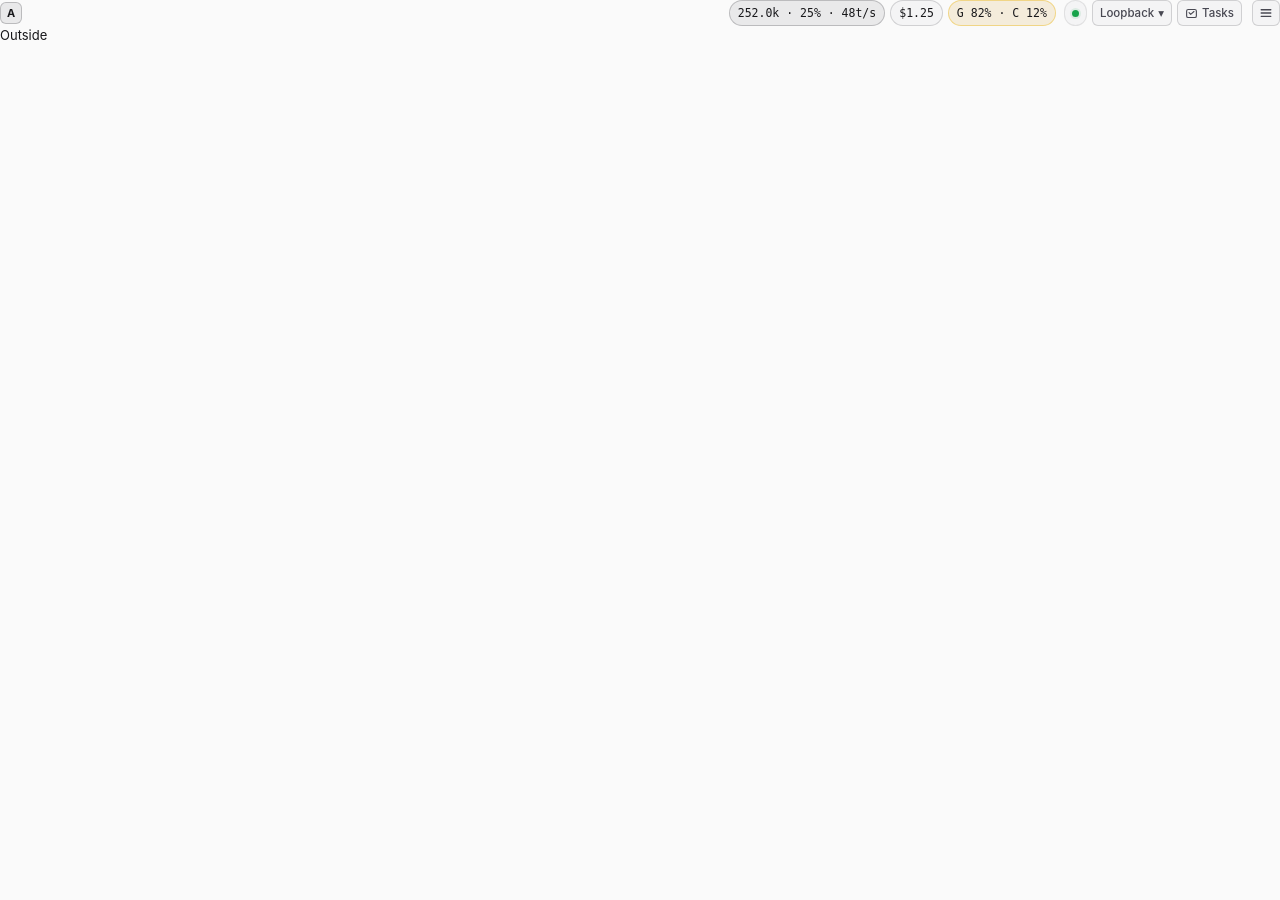
Scenario: TopbarCapsules popovers & MobileQrPopover › opens Quota popover with plan tier, semantic color tones, and reset countdowns
Click the button "Quota": (1002, 13) x1=948 y1=0 x2=1056 y2=26
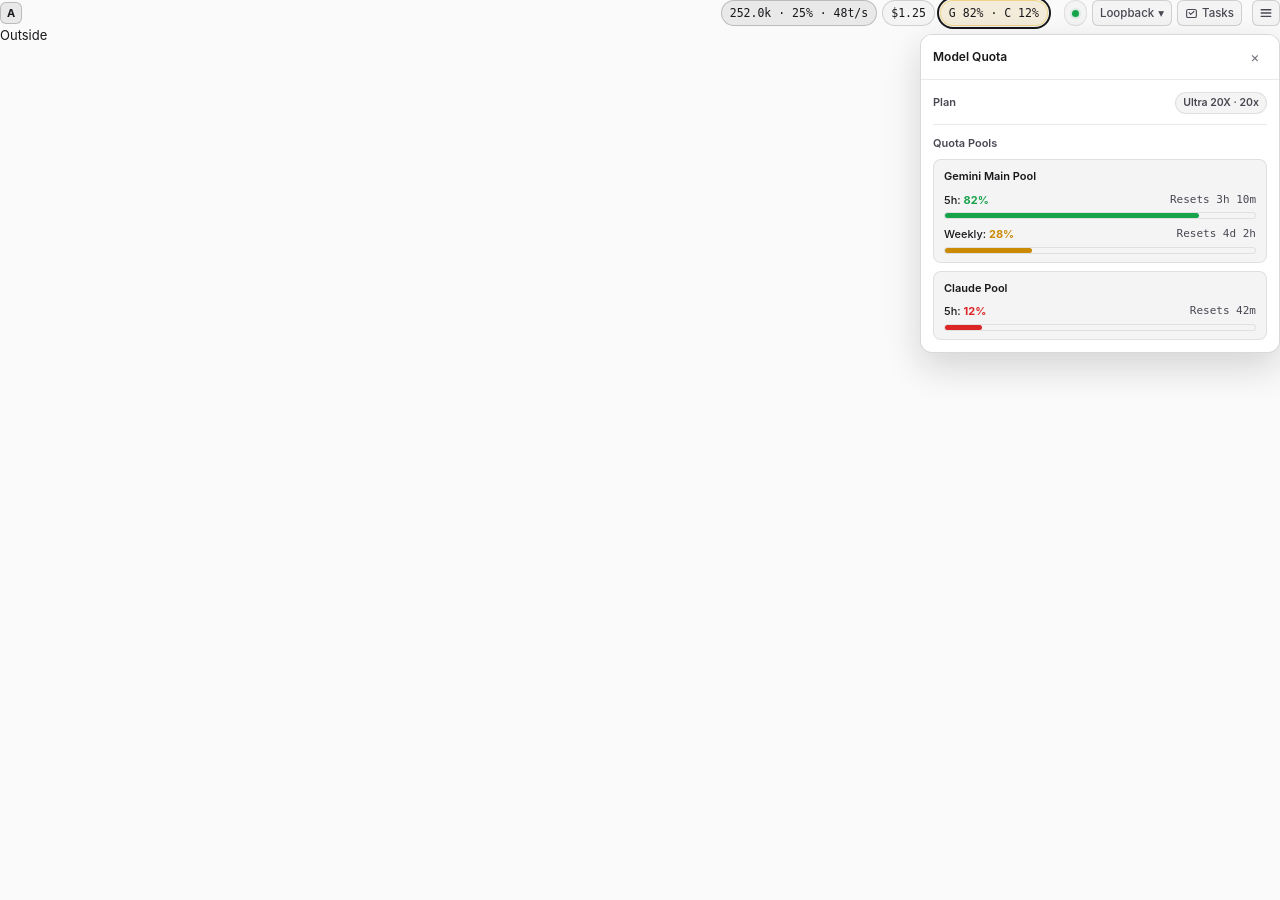
expect the dialog with test id "topbar-popover-quota" is shown: met, box x1=920 y1=34 x2=1279 y2=353
expect the text with test id "quota-plan-badge" reads "Ultra 20X · 20x": met, box x1=1183 y1=96 x2=1259 y2=109
expect the element with test id "quota-pool-gemini-main" shows "82%": met, box x1=964 y1=193 x2=989 y2=207
